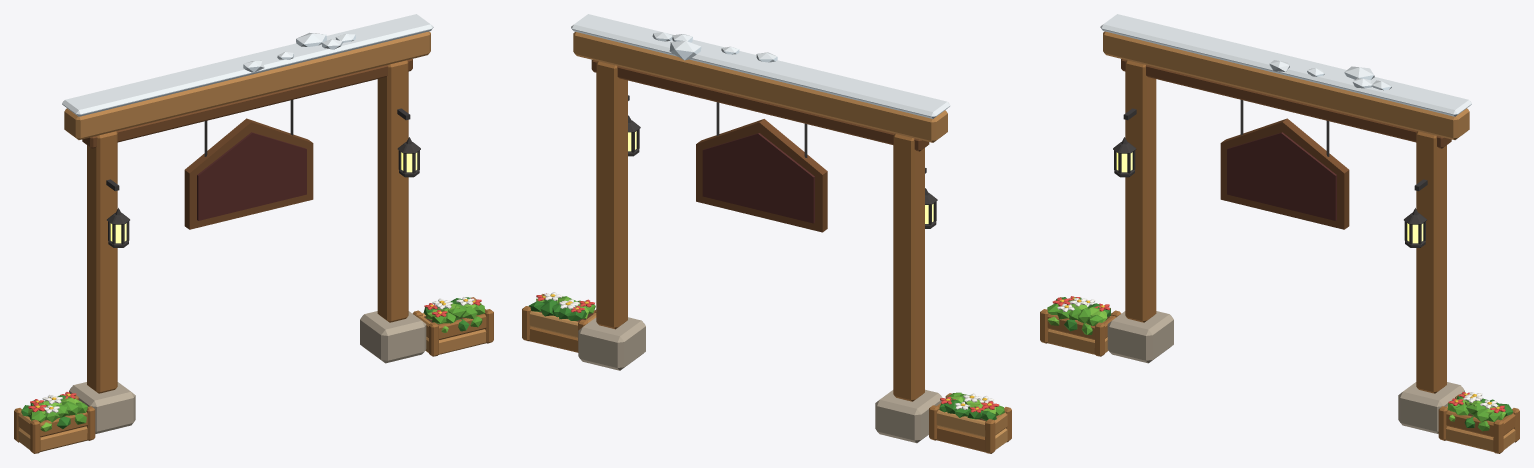
File: homes_arch.glb
The picture shows the model from 3 angles, left to right: view 1: azimuth 30°, elevation 25°; view 2: azimuth 150°, elevation 25°; view 3: azimuth 330°, elevation 25°; orthographic projection. The views are drawn at different scales.
Parts seen in each view (by area): view 1: homes_arch; view 2: homes_arch; view 3: homes_arch.
Boxes of the visible parts, x1=… form: homes_arch: x1=14, y1=14, x2=493, y2=453; homes_arch: x1=522, y1=14, x2=1011, y2=453; homes_arch: x1=1040, y1=14, x2=1519, y2=453.
Bounding box in the file's own units: 4.28 × 2.96 × 0.5648.
